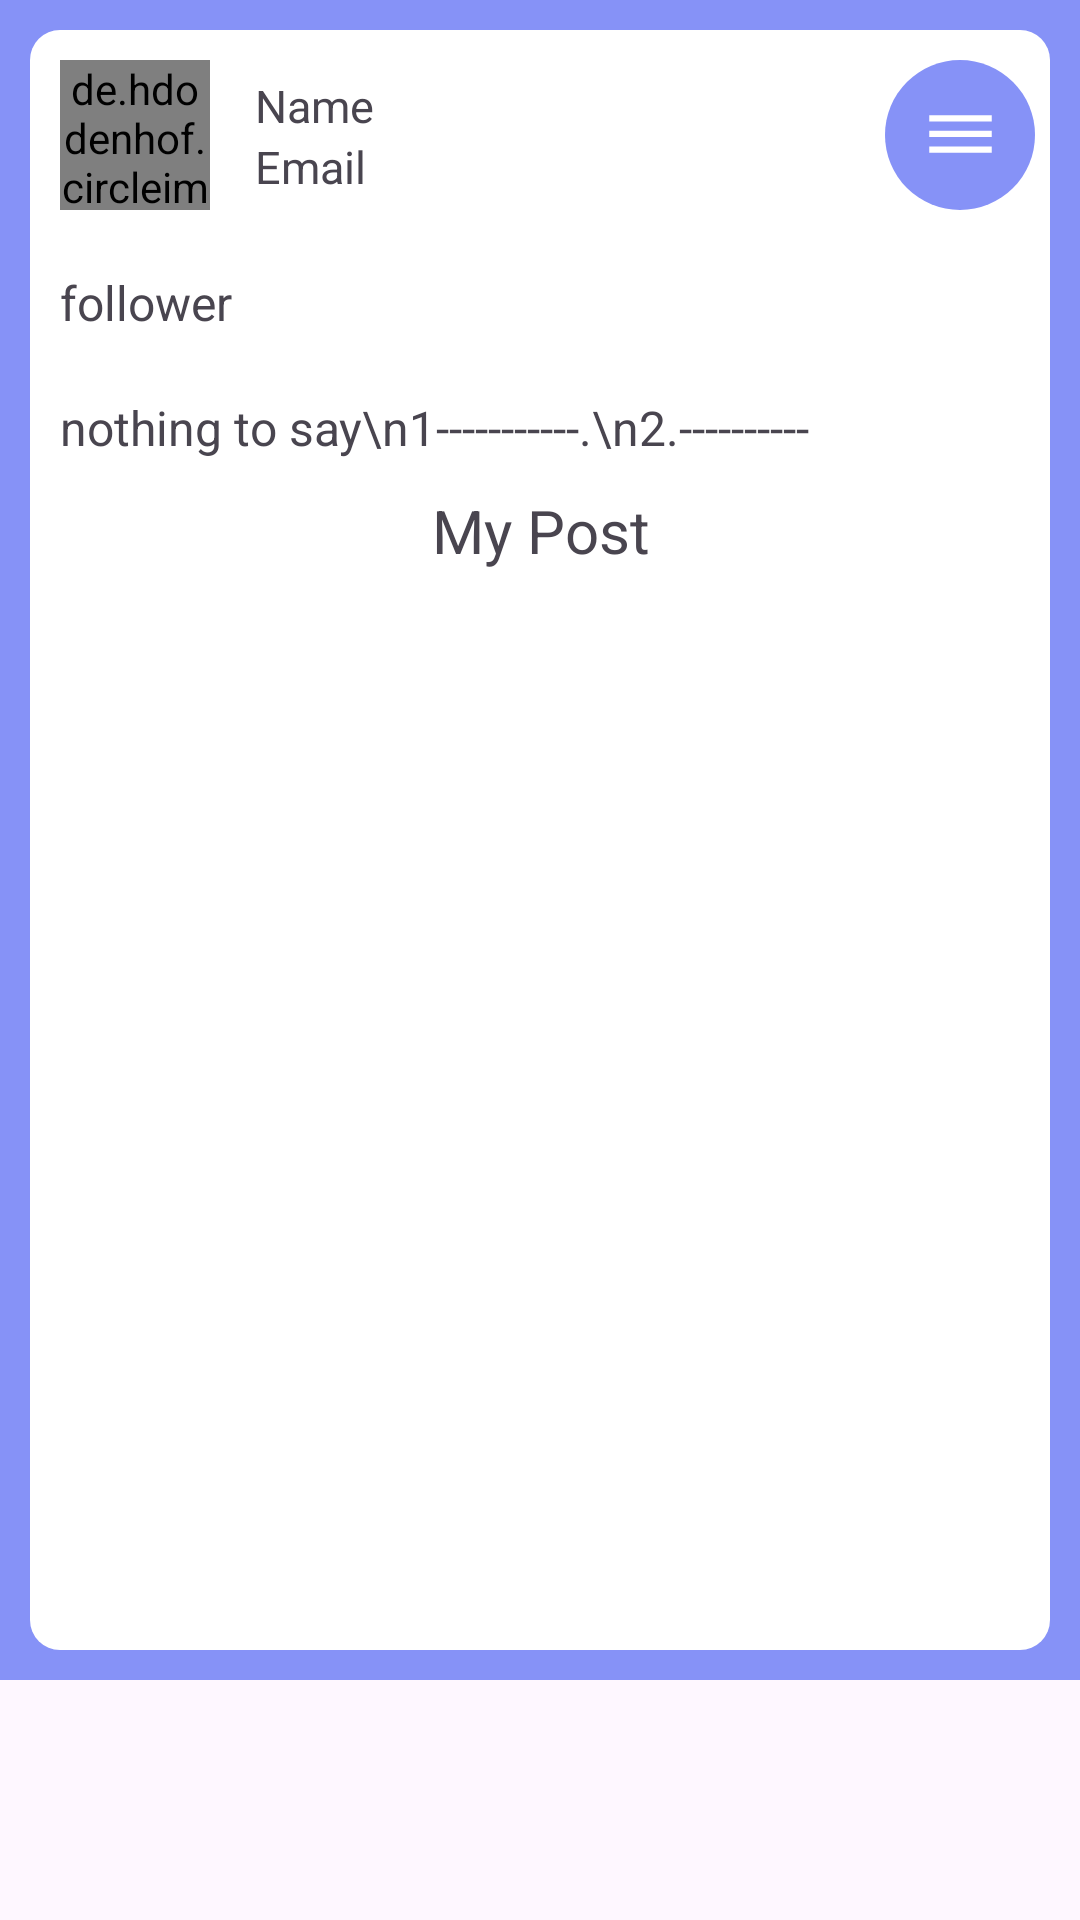

Named icons in this screenshot (1080px×1920px) and their centers, (x=x, y=y):
dehaze: (x=960, y=135)
